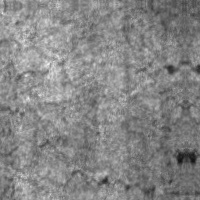crazing: (25, 145, 156, 197), (0, 21, 78, 99), (0, 58, 31, 199)
